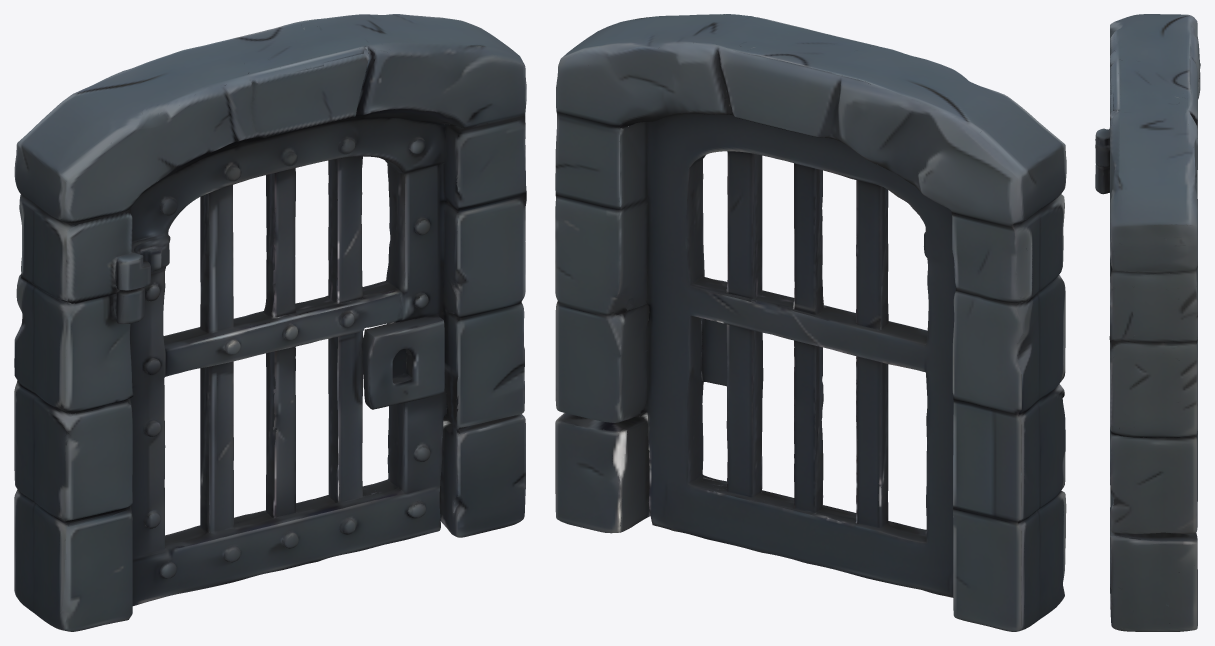
File: base_basic_shaded.fbx
3 views of the same model, side by side, from view 1: azimuth 30°, elevation 25°; view 2: azimuth 150°, elevation 25°; view 3: azimuth 270°, elevation 25° (orthographic). The views are drawn at different scales.
Parts seen in each view (by area): view 1: model; view 2: model; view 3: model.
Boxes of the visible parts, x1,y1,x2,y2 form: model: (14, 14, 526, 631); model: (555, 14, 1066, 631); model: (1095, 14, 1200, 631).
Size of the model in its own units: 182 by 190 by 39.89.
